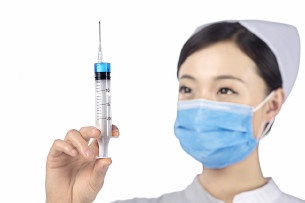Mask: (170, 70, 260, 160)
